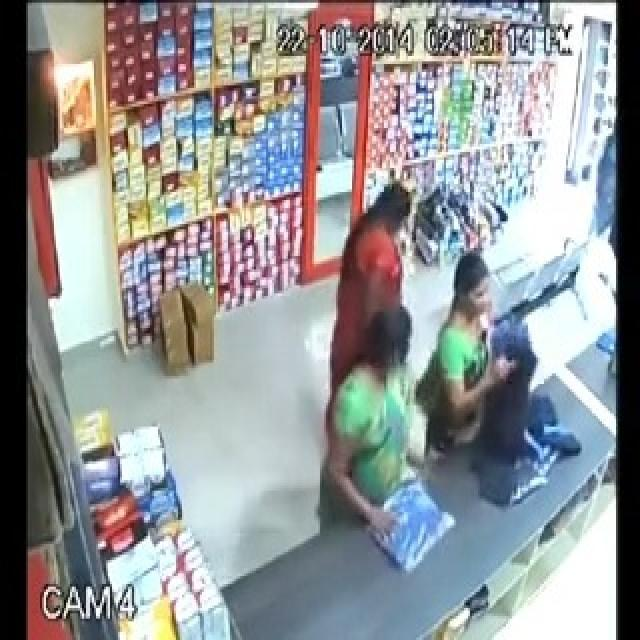Normal: (430, 239, 603, 528), (321, 298, 464, 582), (335, 158, 432, 394)
